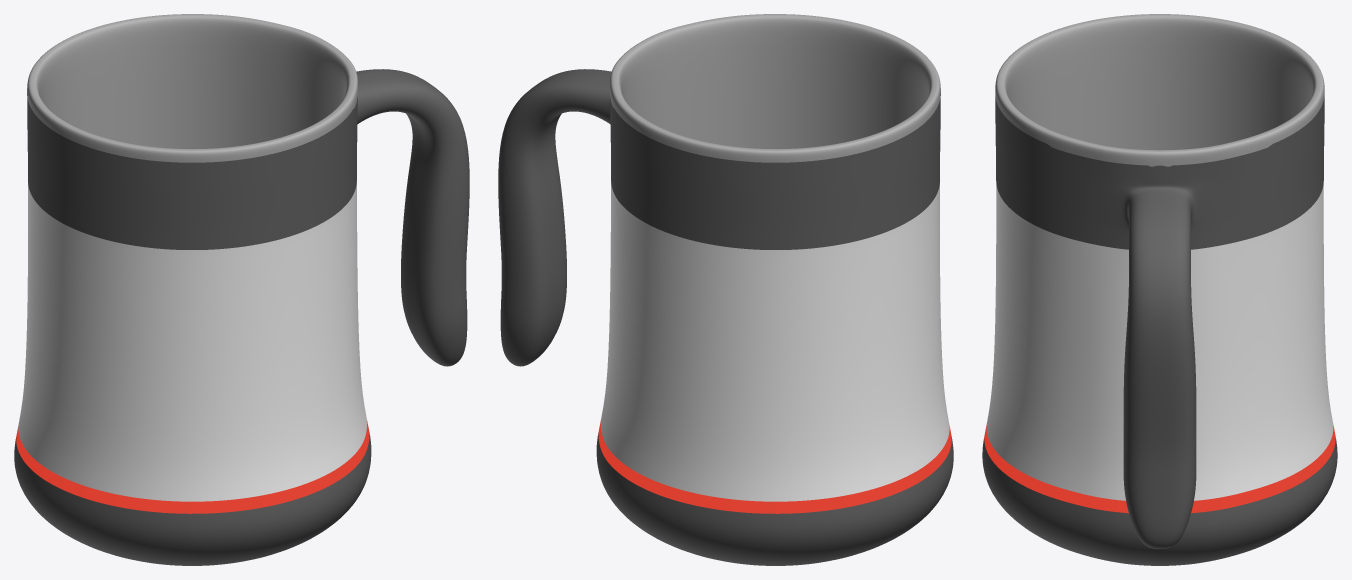
Rendered from SmartMug.fbx.
3 views of the same model, side by side, from view 1: azimuth 30°, elevation 25°; view 2: azimuth 150°, elevation 25°; view 3: azimuth 270°, elevation 25° (orthographic).
Visible parts, largest first — view 1: mug; view 2: mug; view 3: mug.
Boxes of the visible parts, box(x1,y1,x2,y2) form: mug: box(14, 14, 469, 565); mug: box(498, 14, 953, 565); mug: box(982, 14, 1337, 565).
Size of the model in its own units: 97.36 by 98.18 by 71.04.
